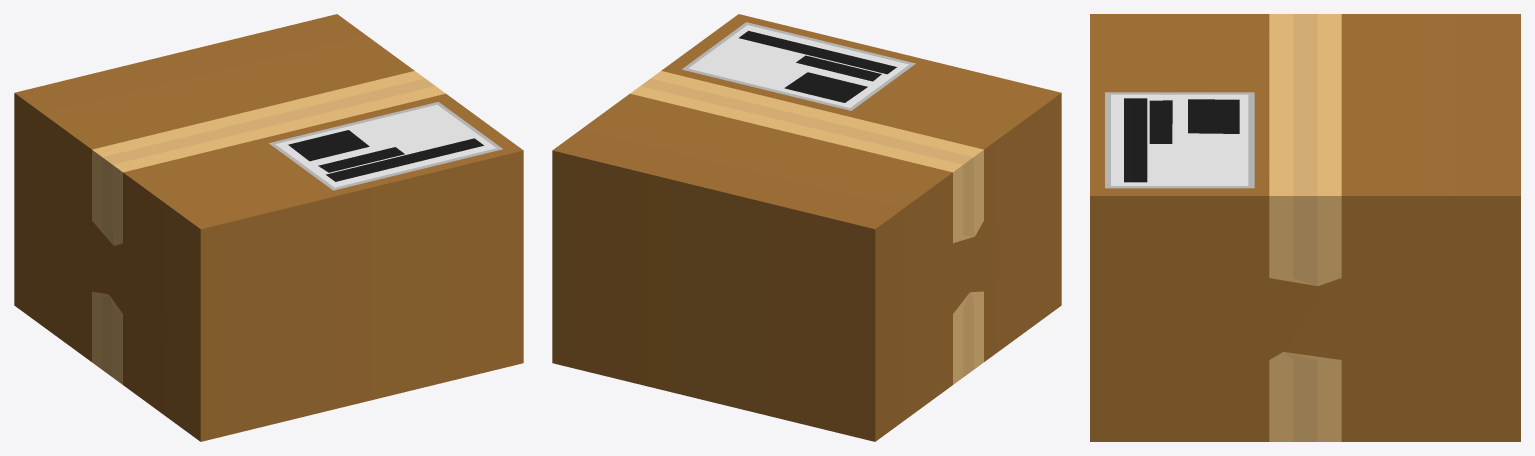
The model's file is Dark Packing Box #5.fbx.
3 views of the same model, side by side, from view 1: azimuth 30°, elevation 25°; view 2: azimuth 150°, elevation 25°; view 3: azimuth 270°, elevation 25° (orthographic). The views are drawn at different scales.
Visible parts, largest first — view 1: Med Dark Packing Box #1; view 2: Med Dark Packing Box #1; view 3: Med Dark Packing Box #1.
Part boxes in pixels (left/top/right/bottom): Med Dark Packing Box #1: left=14, top=14, right=523, bottom=441; Med Dark Packing Box #1: left=552, top=14, right=1061, bottom=441; Med Dark Packing Box #1: left=1090, top=14, right=1520, bottom=441.
Bounding box in the file's own units: 184 × 292 × 292.
Materials: 1 (1 with a texture image).
